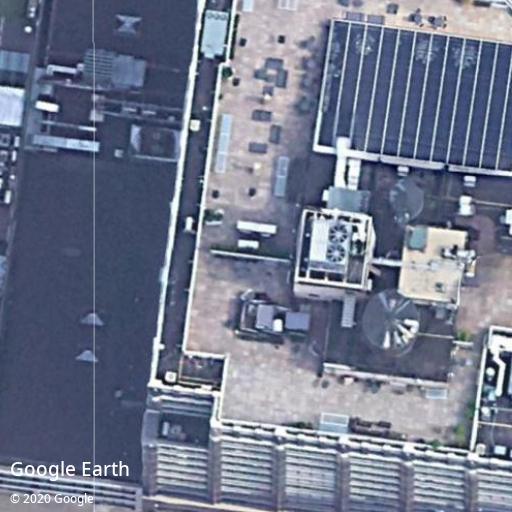Vent: (328, 225, 348, 244), (326, 245, 345, 263)
